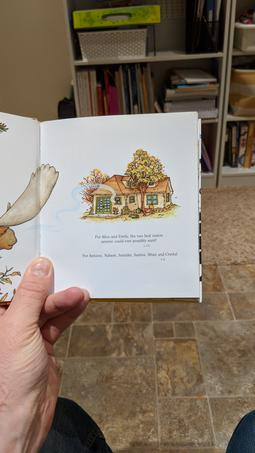text block: (73, 249, 189, 268), (79, 232, 169, 244)
